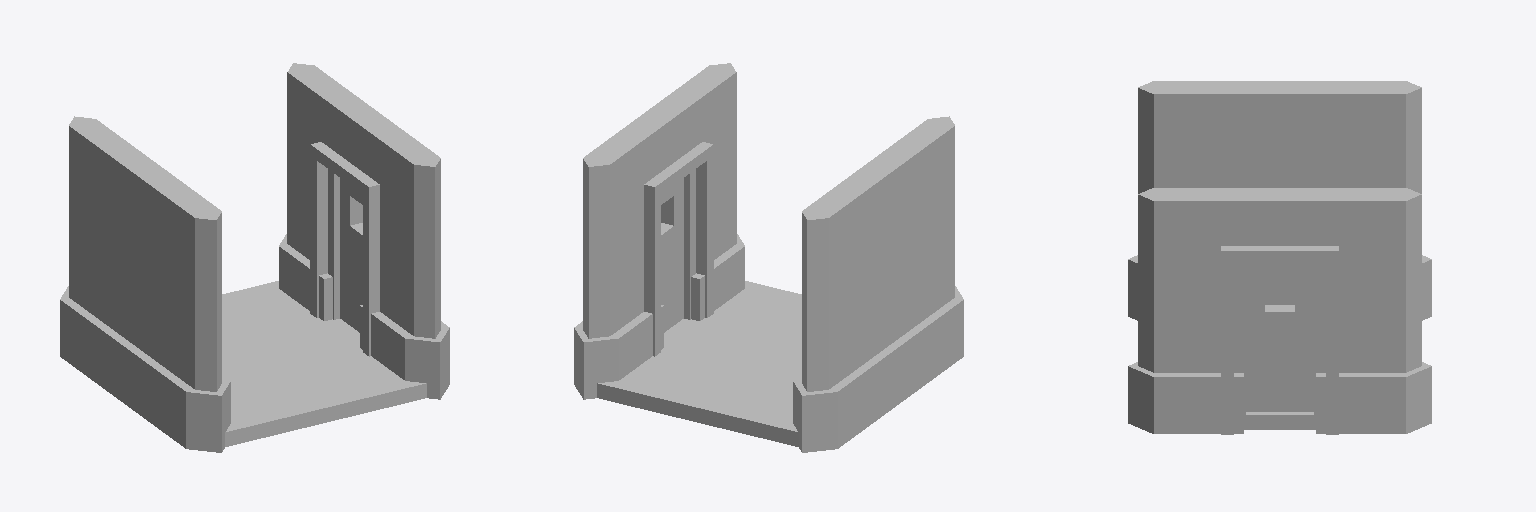
File: sm_hallway_05.obj
3 views of the same model, side by side, from view 1: azimuth 30°, elevation 25°; view 2: azimuth 150°, elevation 25°; view 3: azimuth 270°, elevation 25° (orthographic).
Visible parts, largest first — view 1: wall_01_172, door_02_175, floor_square_169; view 2: wall_01_172, door_02_175, floor_square_169; view 3: door_02_175, wall_01_172.
Boxes of the visible parts, x1,y1,x2,y2 form: wall_01_172: [60, 116, 230, 452]; door_02_175: [279, 63, 449, 399]; floor_square_169: [222, 281, 426, 446]; wall_01_172: [793, 116, 963, 452]; door_02_175: [574, 63, 744, 399]; floor_square_169: [597, 281, 801, 446]; door_02_175: [1128, 188, 1431, 434]; wall_01_172: [1128, 81, 1431, 320].
Bounding box in the file's own units: 1.22 × 1 × 1.21.